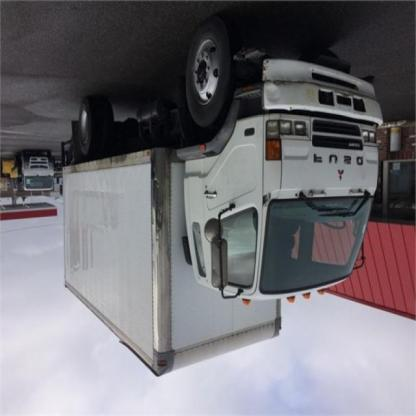truck: (64, 29, 383, 377)
